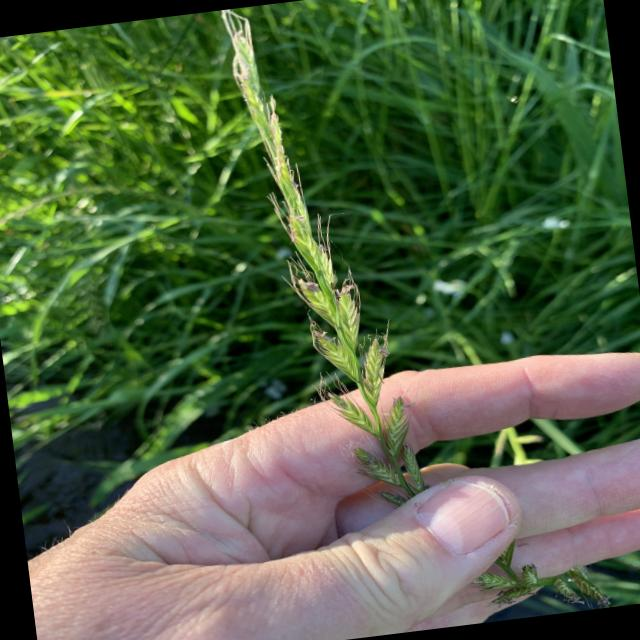Lolium: (215, 0, 433, 521)
